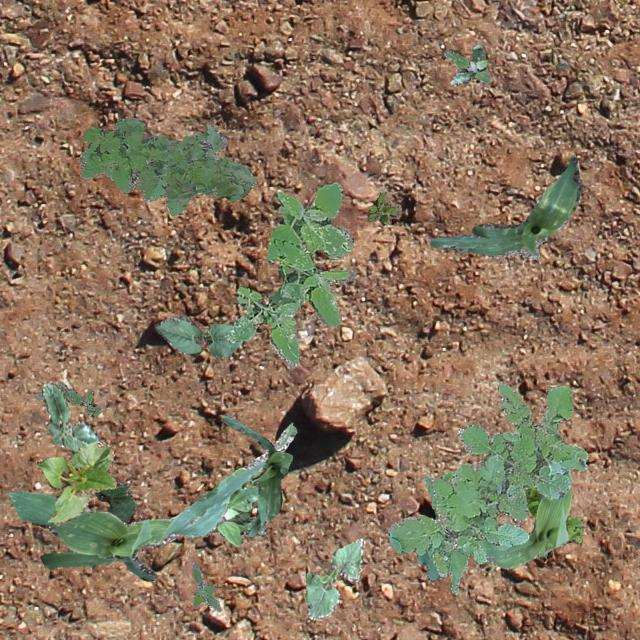crop: (7, 422, 296, 580), (429, 156, 582, 258), (456, 468, 570, 568), (220, 414, 292, 536), (36, 440, 116, 524), (415, 470, 467, 592), (304, 538, 364, 618), (40, 382, 100, 452), (154, 314, 242, 358), (94, 482, 136, 522)
weed: (386, 380, 586, 576), (223, 182, 354, 368), (78, 117, 254, 216), (182, 484, 264, 544), (524, 482, 584, 560), (34, 380, 100, 416), (444, 44, 488, 84), (190, 562, 220, 610), (366, 190, 401, 224), (473, 526, 497, 572)
